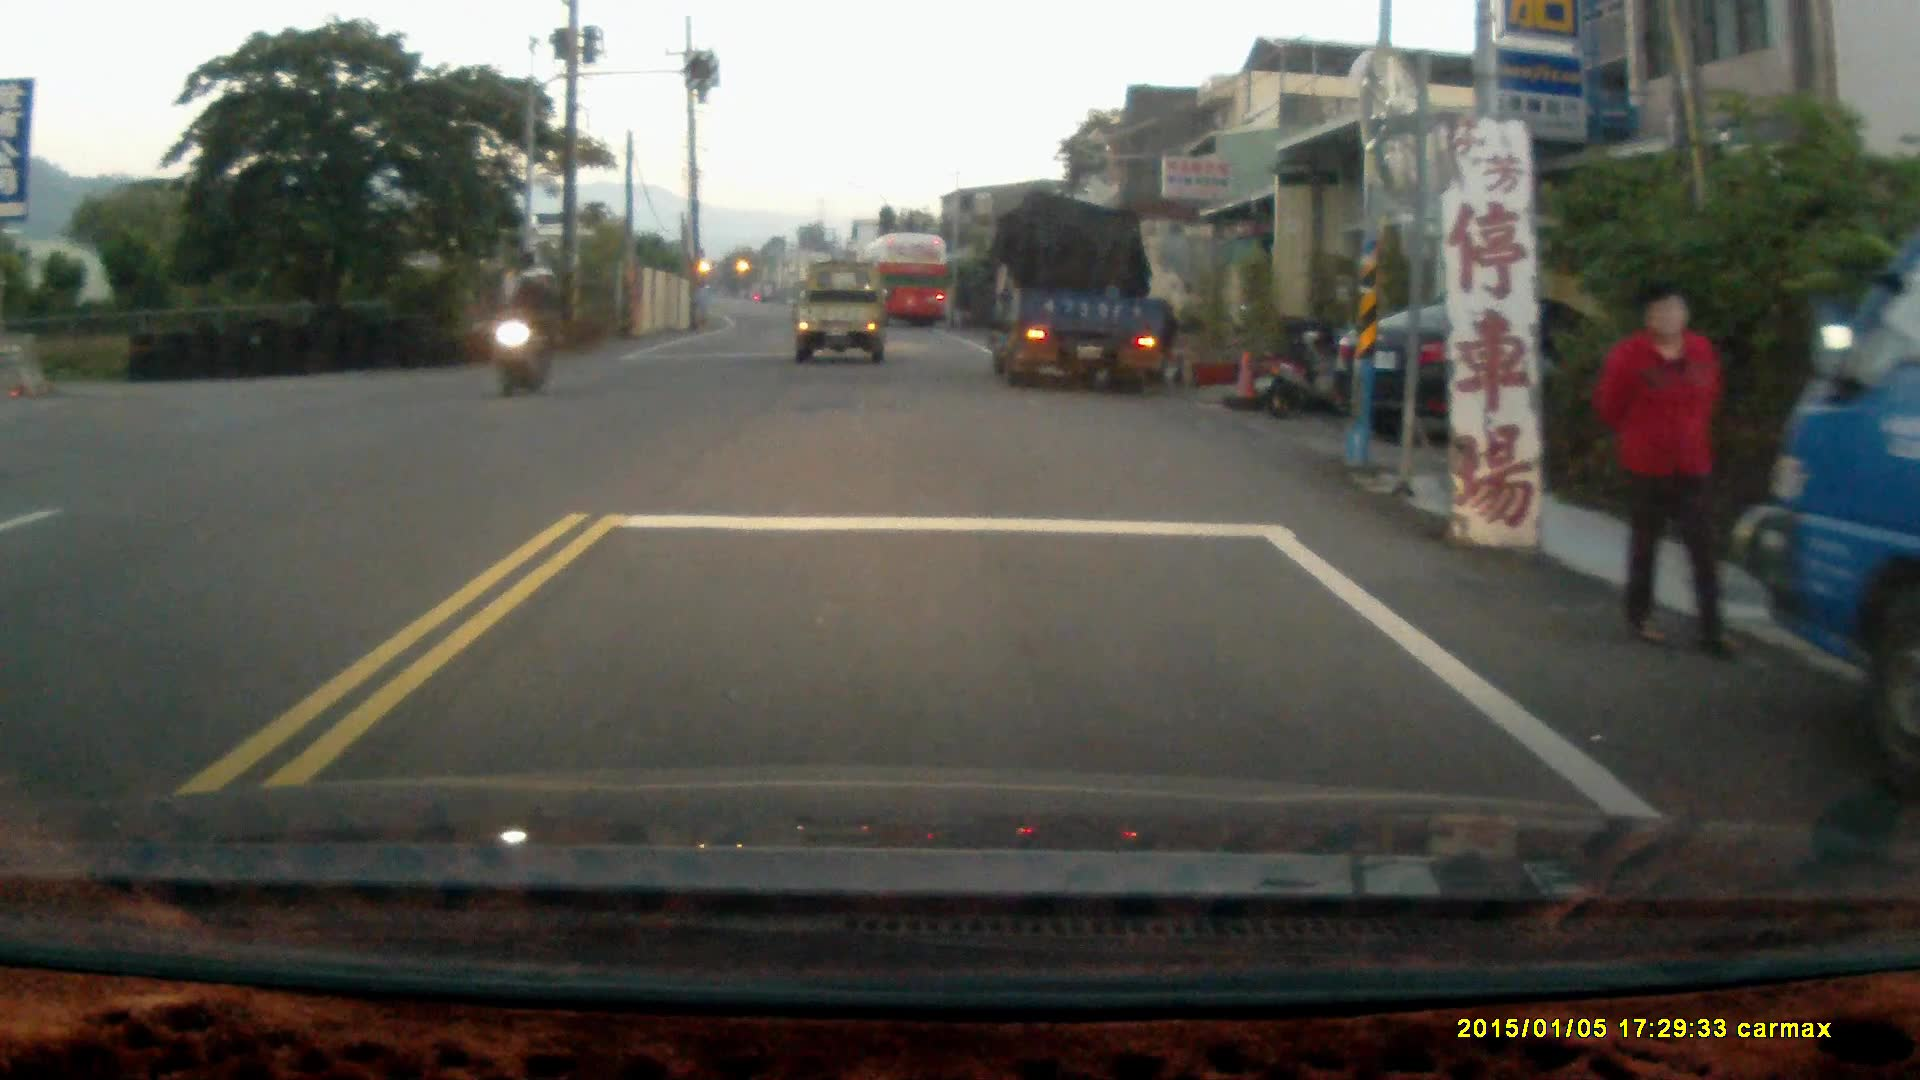pedestrian: (1596, 280, 1733, 663)
rider: (488, 267, 564, 401)
vehicle: (1729, 202, 1919, 813), (1334, 292, 1685, 453), (992, 195, 1180, 389), (795, 262, 890, 373), (859, 231, 954, 331)
